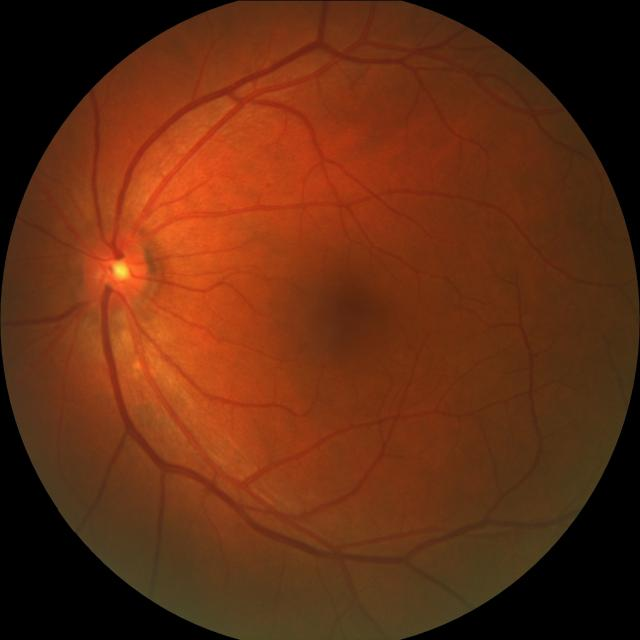OC: (100, 252, 136, 289)
OD: (81, 229, 152, 303)
